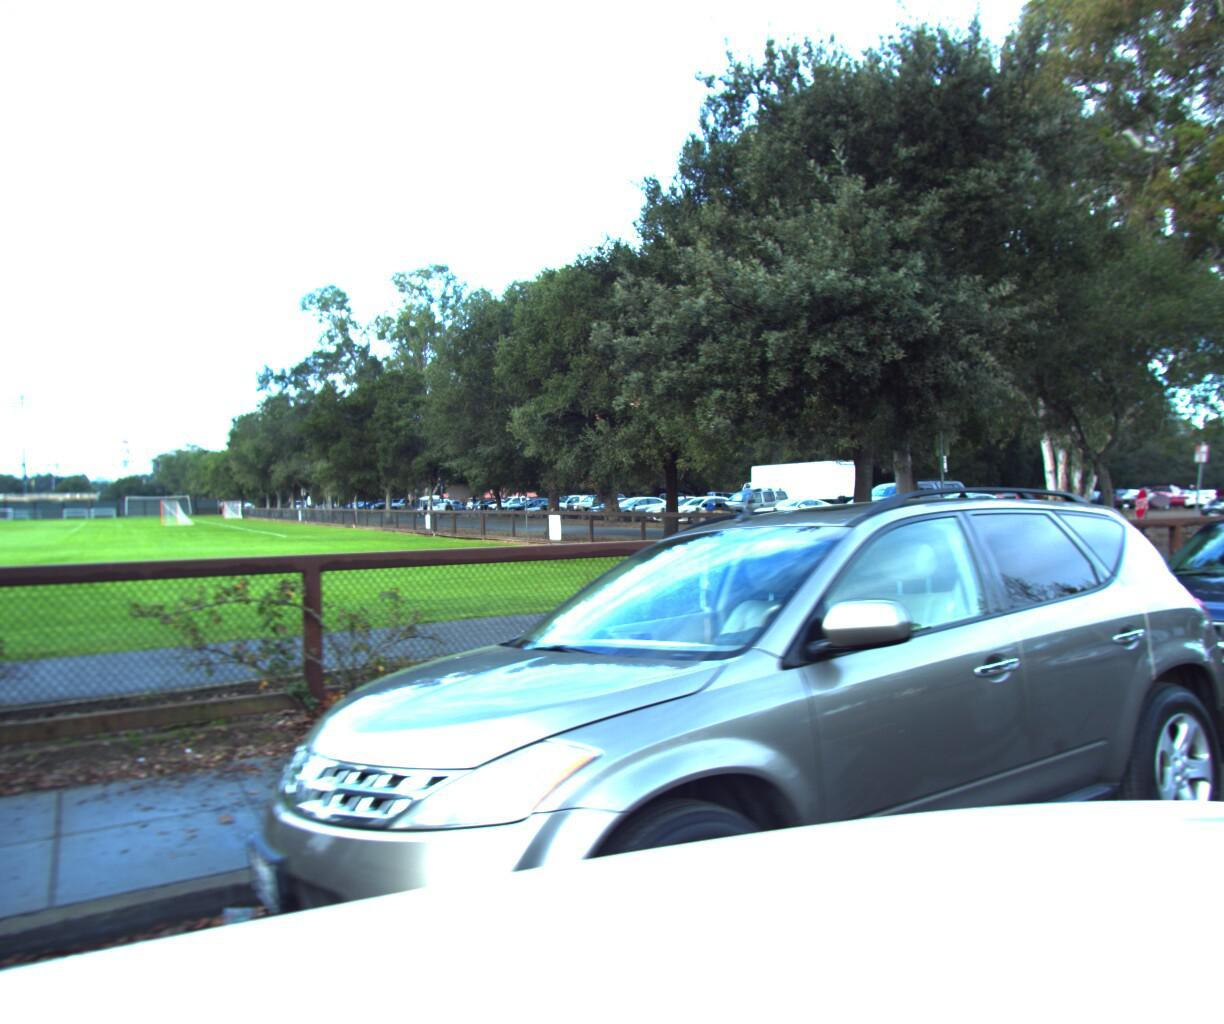car: (176, 482, 1224, 1024), (1035, 491, 1224, 791)
